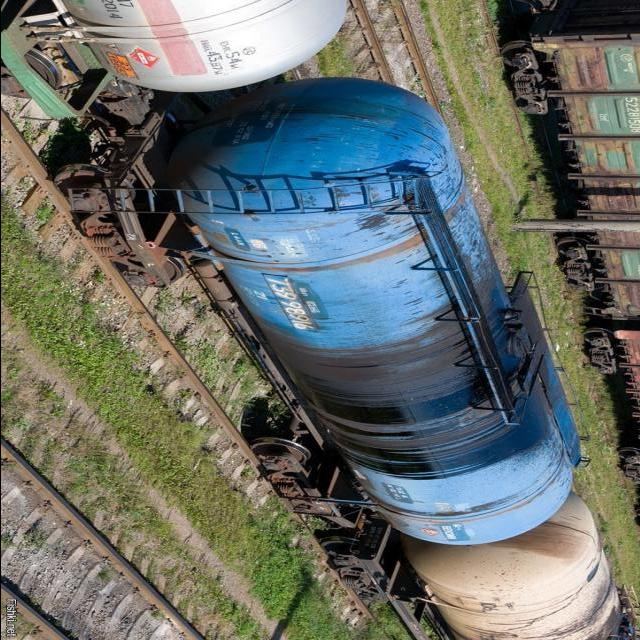wagon: (266, 276, 317, 332)
